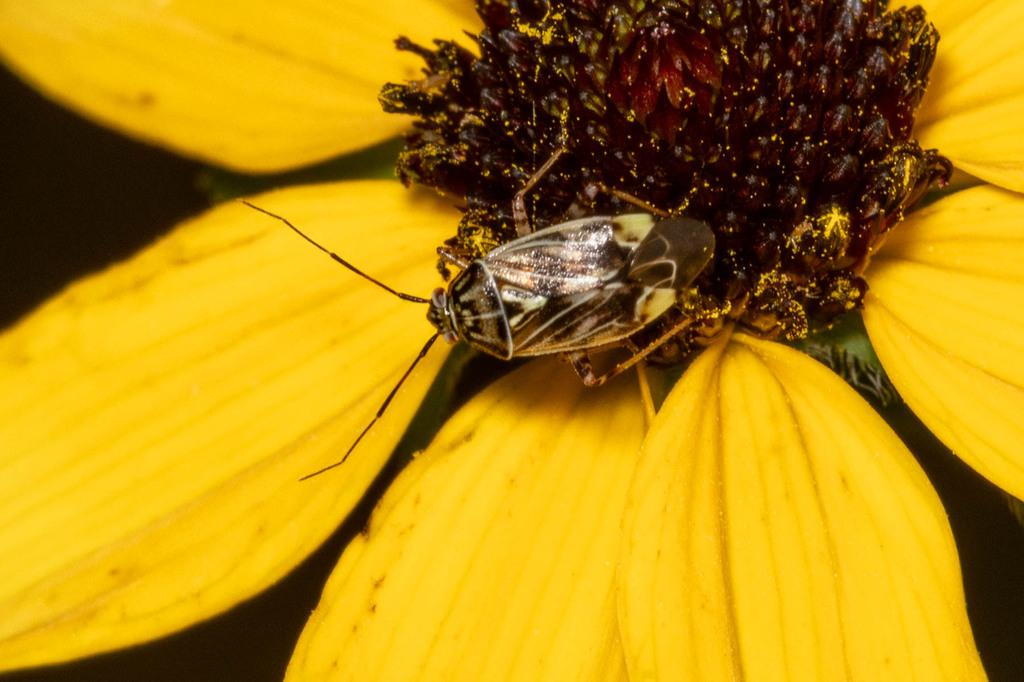plant_bugs: (207, 97, 771, 544)
